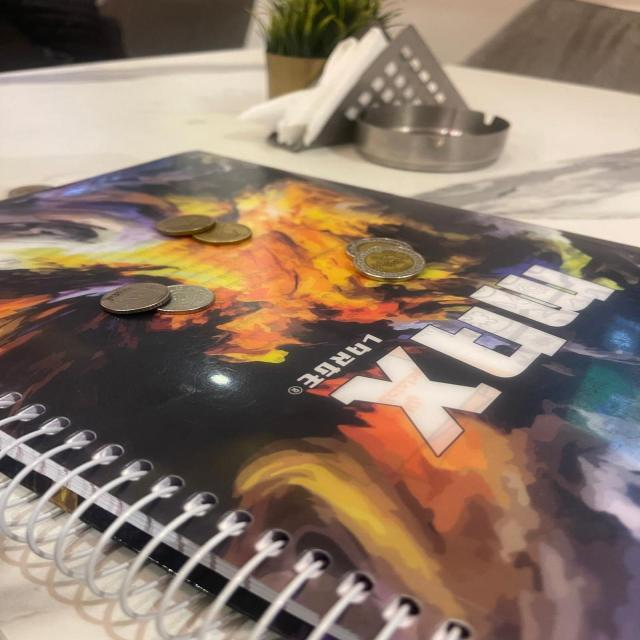Half Pound: (193, 221, 256, 244), (155, 214, 216, 236)
One Pound: (353, 248, 428, 276), (350, 235, 414, 262)
quarter pound: (110, 282, 168, 314), (158, 282, 213, 314)
